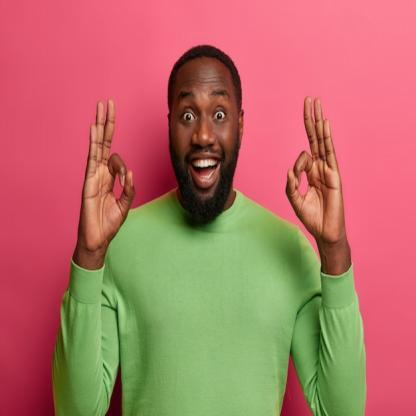ok: (282, 91, 353, 248), (80, 98, 138, 250)
